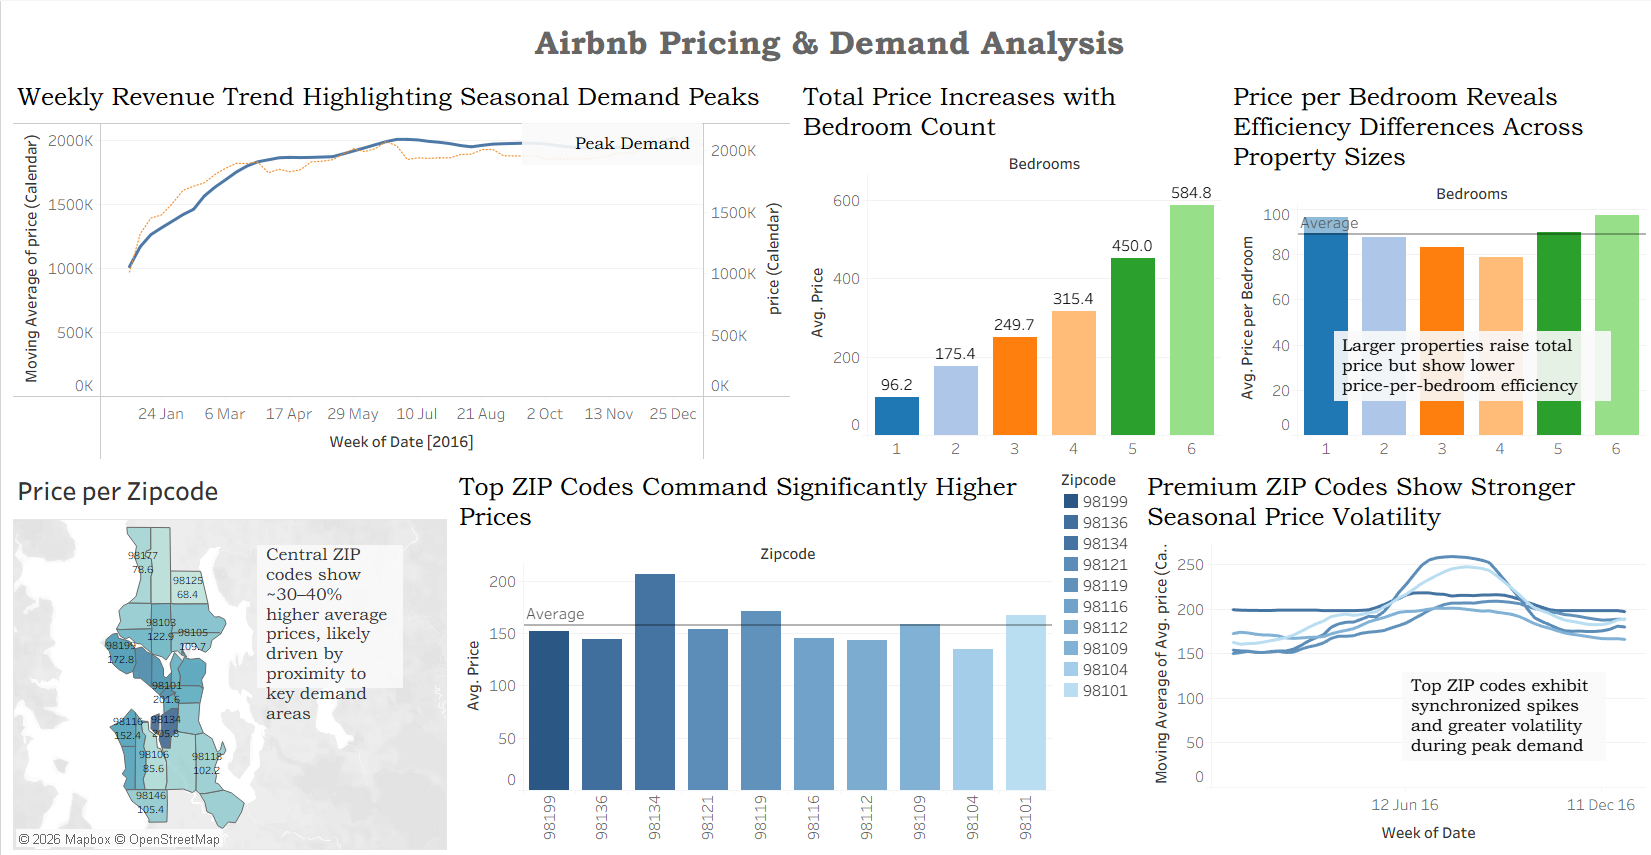

The dashboard page shown, as its layout file describes it:
{"tool":"tableau","page":{"name":"Dashboard 1","canvas":[1000,1000],"units":"permille","ordinal":0},"visuals":[{"type":"text","box":[4.7,9.3,990.6,76.7]},{"type":"worksheet","title":"Sheet 3","mark":"Automatic","rows":["price (Calendar)"],"cols":["date"],"box":[4.7,86,474.4,452.4]},{"type":"worksheet","title":"Sheet 4","mark":"Automatic","rows":["price"],"cols":["bedrooms"],"box":[479.1,86,259.6,452.4]},{"type":"worksheet","title":"Sheet 7","mark":"Automatic","rows":["Calculation_1850416562824806403"],"cols":["bedrooms"],"box":[738.8,86,256.6,452.4]},{"type":"worksheet","title":"Sheet 2","mark":"Multipolygon","box":[4.7,538.3,267.1,452.4]},{"type":"worksheet","title":"Sheet 1","mark":"Automatic","rows":["price"],"cols":["zipcode"],"box":[271.8,538.3,365.5,452.4]},{"type":"legend","title":"Sheet 1","param":"[federated.0t8du5j1j0ibq616rtid20asas1x].[none:zipcode:ok]","box":[637.3,538.3,49.8,452.4]},{"type":"worksheet","title":"Sheet 8","mark":"Automatic","cols":["date"],"box":[687.1,538.3,308.2,452.4]}]}

Visuals, with their boxes on the dashboard's canvas, which has no fixed pixel size, in thousandths of its width and height (x1, y1, x2, y2). These are canvas units, not pixel positions in the 1651x855 screenshot, which may show the page scaled, cropped or inside an application window:
text: left=5, top=9, right=995, bottom=86
"Sheet 3" worksheet: left=5, top=86, right=479, bottom=538
"Sheet 4" worksheet: left=479, top=86, right=739, bottom=538
"Sheet 7" worksheet: left=739, top=86, right=995, bottom=538
"Sheet 2" worksheet (Multipolygon marks): left=5, top=538, right=272, bottom=991
"Sheet 1" worksheet: left=272, top=538, right=637, bottom=991
"Sheet 1" legend: left=637, top=538, right=687, bottom=991
"Sheet 8" worksheet: left=687, top=538, right=995, bottom=991
